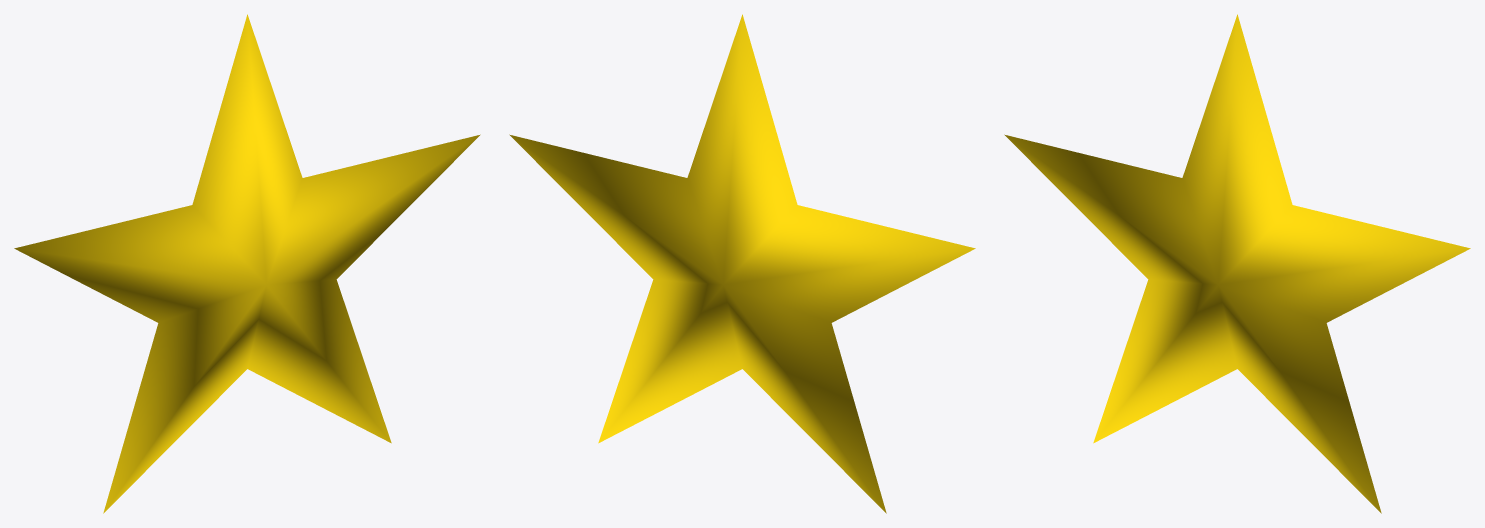
The model's file is star.fbx.
The picture shows the model from 3 angles, left to right: view 1: azimuth 30°, elevation 25°; view 2: azimuth 150°, elevation 25°; view 3: azimuth 330°, elevation 25°; orthographic projection.
Parts seen in each view (by area): view 1: Mesh_Mesh_015; view 2: Mesh_Mesh_015; view 3: Mesh_Mesh_015.
Part boxes in pixels (x1=…): Mesh_Mesh_015: x1=14, y1=14, x2=480, y2=513; Mesh_Mesh_015: x1=509, y1=14, x2=975, y2=513; Mesh_Mesh_015: x1=1004, y1=14, x2=1470, y2=513.
Size of the model in its own units: 4.98 by 4.74 by 0.708.
Materials: 1 (1 with a texture image).
